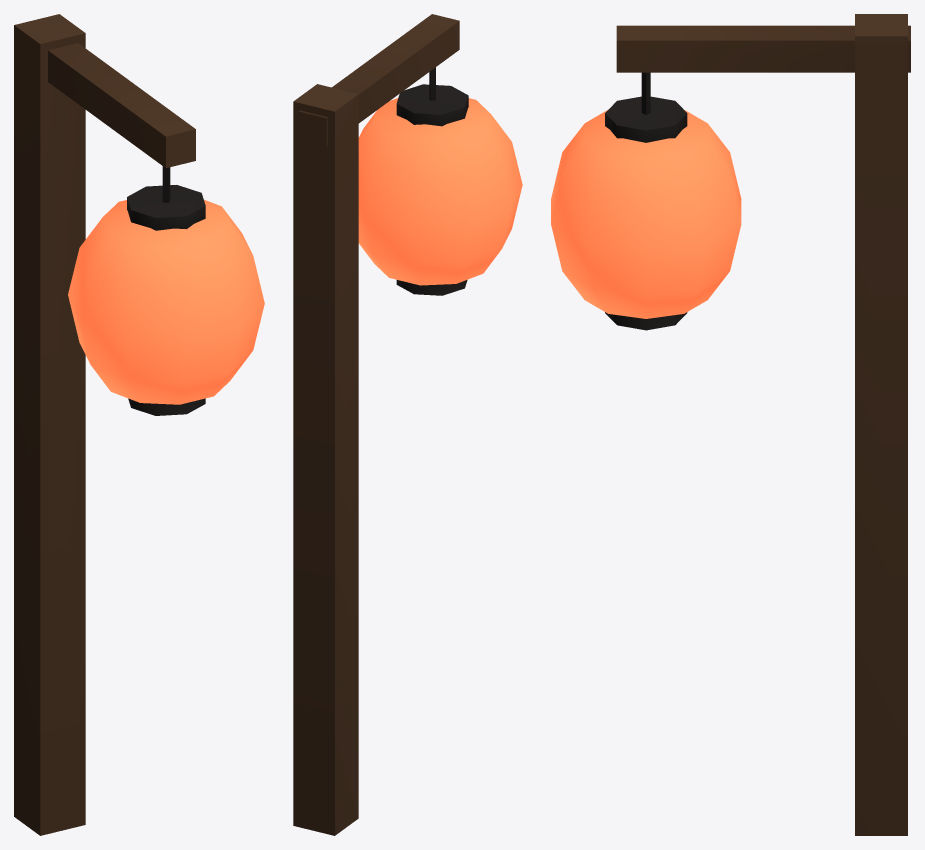
Rendered from prop.bamboo_lantern_paper.glb.
The picture shows the model from 3 angles, left to right: view 1: azimuth 30°, elevation 25°; view 2: azimuth 150°, elevation 25°; view 3: azimuth 270°, elevation 25°; orthographic projection. The views are drawn at different scales.
Parts seen in each view (by area): view 1: bamboo_lantern_paper; view 2: bamboo_lantern_paper; view 3: bamboo_lantern_paper.
Boxes of the visible parts, x1,y1,x2,y2 form: bamboo_lantern_paper: (14,14,264,835); bamboo_lantern_paper: (293,14,522,835); bamboo_lantern_paper: (551,14,910,835).
Bounding box in the file's own units: 0.68 × 3 × 1.22.
